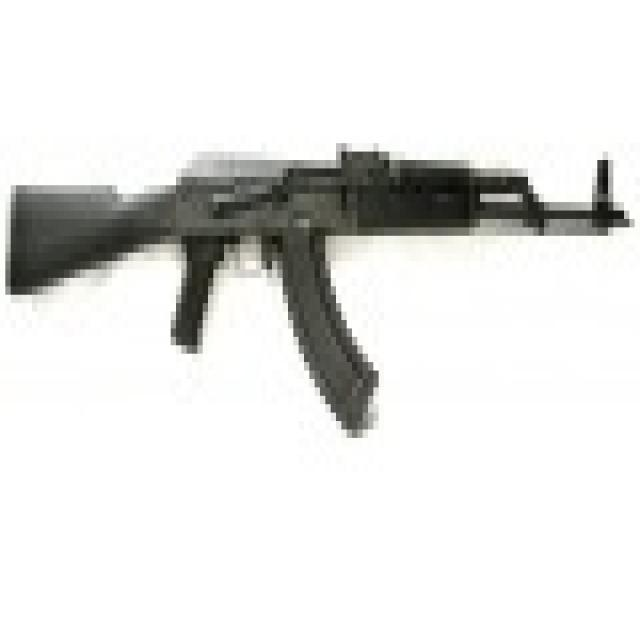Gun: (13, 115, 630, 387)
